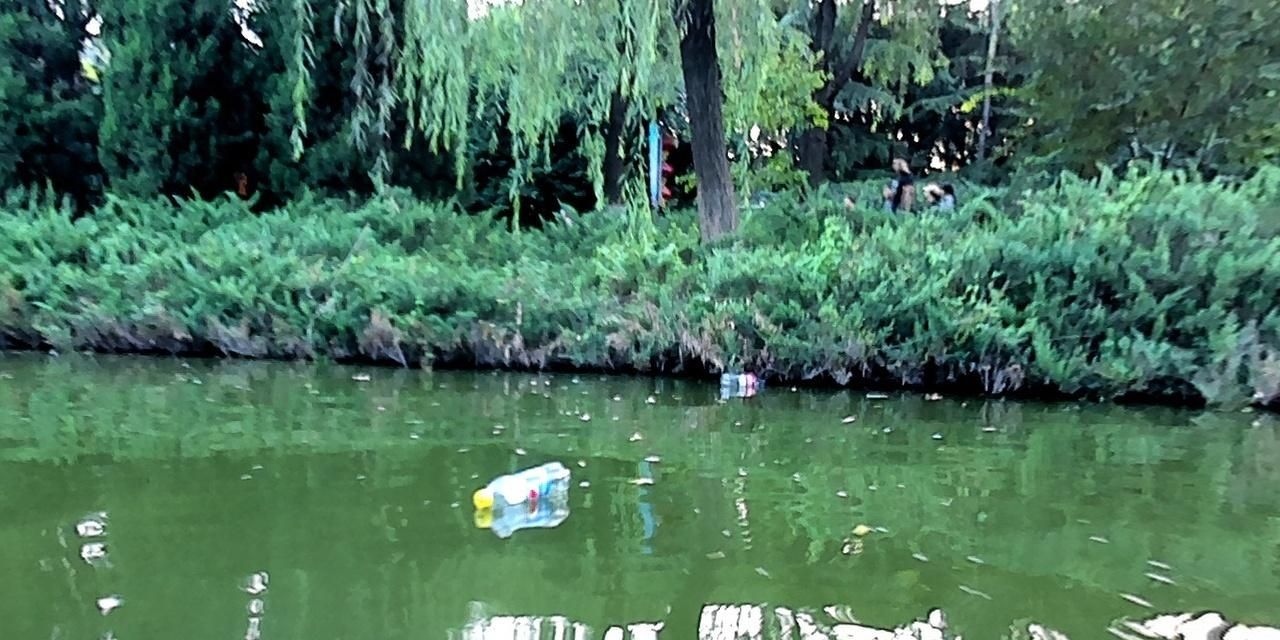bottle: (471, 460, 569, 506), (718, 370, 762, 393)
